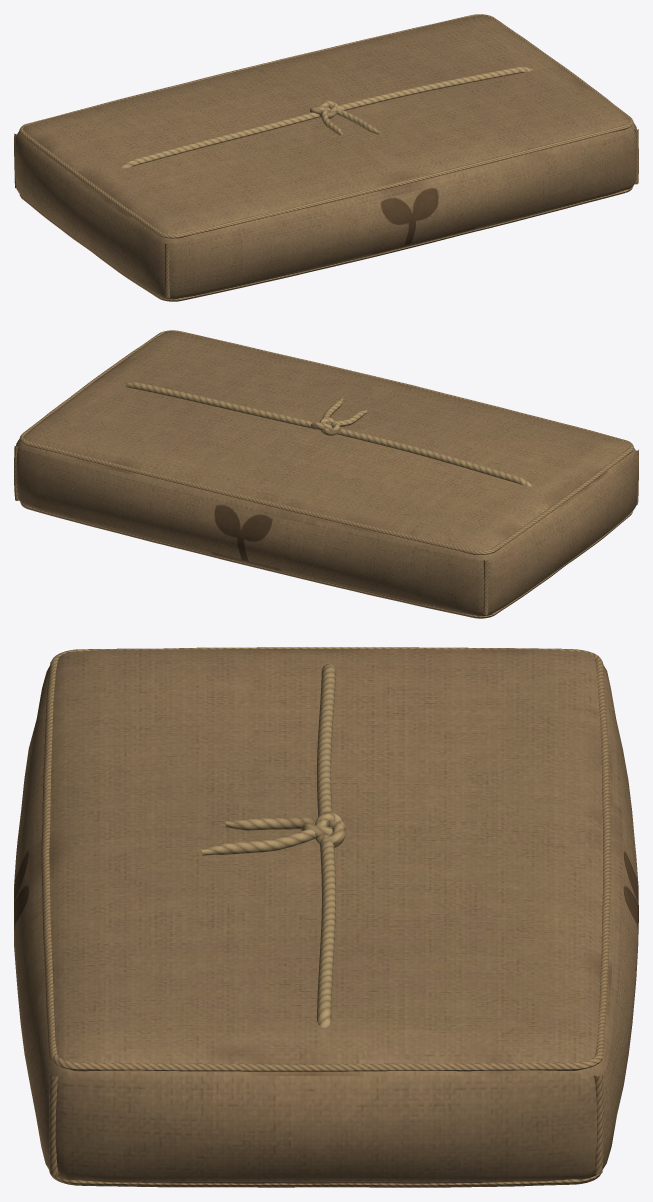
The model's file is soil_bag.glb.
The picture shows the model from 3 angles, top to bottom: view 1: azimuth 30°, elevation 25°; view 2: azimuth 150°, elevation 25°; view 3: azimuth 270°, elevation 25°; orthographic projection. The views are drawn at different scales.
Parts seen in each view (by area): view 1: SoilBag; view 2: SoilBag; view 3: SoilBag.
Part boxes in pixels (x1,y1,x2,y2): SoilBag: [14, 14, 638, 301]; SoilBag: [14, 330, 638, 618]; SoilBag: [14, 647, 638, 1187].
Size of the model in its own units: 1.25 by 0.2517 by 0.75.
Materials: 3 (3 with a texture image).
